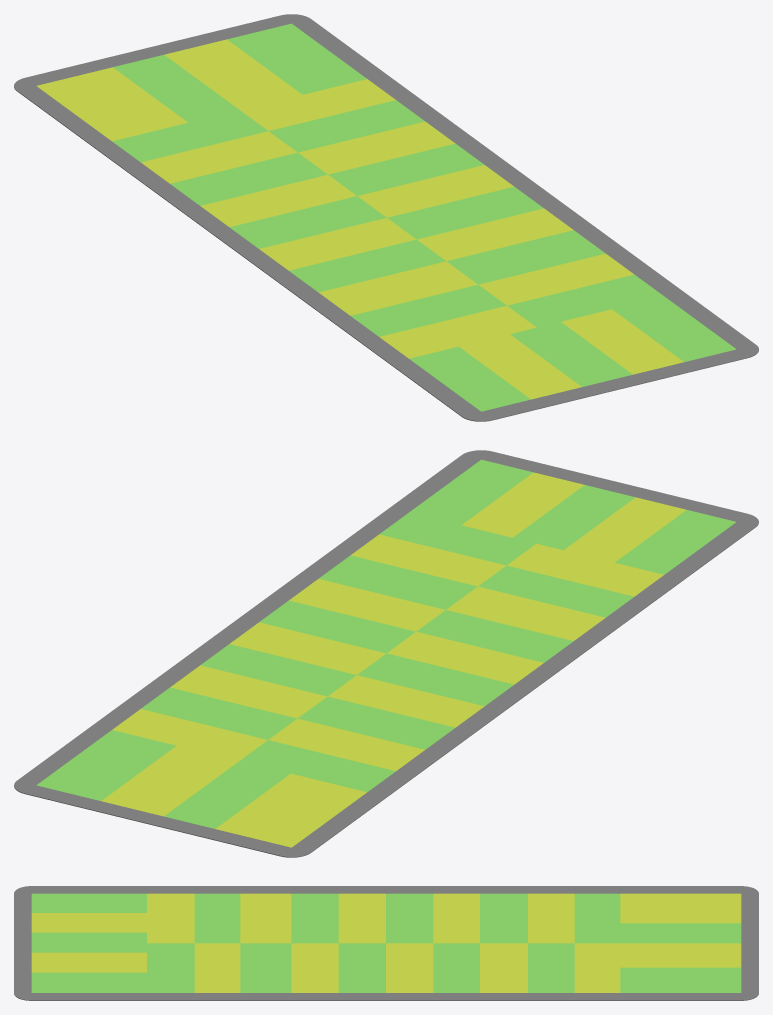
File: blockfinalcolor.glb
The picture shows the model from 3 angles, top to bottom: view 1: azimuth 30°, elevation 25°; view 2: azimuth 150°, elevation 25°; view 3: azimuth 270°, elevation 25°; orthographic projection. The views are drawn at different scales.
Visible parts, largest first — view 1: sidewalk, plot_8, plot_11, plot_10, plot_30, plot_19, plot_9, plot_5, plot_14, plot_28, plot_21, plot_1 (+18 smaller); view 2: sidewalk, plot_8, plot_11, plot_10, plot_30, plot_19, plot_9, plot_5, plot_14, plot_28, plot_21, plot_2 (+18 smaller); view 3: sidewalk, plot_8, plot_11, plot_10, plot_30, plot_19, plot_9, plot_1, plot_28, plot_5, plot_2, plot_3 (+18 smaller).
Boxes of the visible parts, x1,y1,x2,y2 form: sidewalk: [14, 14, 758, 421]; plot_8: [37, 67, 187, 141]; plot_11: [227, 23, 366, 94]; plot_10: [164, 39, 302, 109]; plot_30: [318, 261, 477, 315]; plot_19: [447, 230, 605, 284]; plot_9: [113, 55, 239, 122]; plot_5: [170, 152, 327, 205]; plot_14: [298, 121, 455, 174]; plot_28: [379, 306, 536, 358]; plot_21: [507, 274, 663, 327]; plot_1: [289, 239, 445, 292]; sidewalk: [14, 450, 758, 857]; plot_8: [215, 773, 366, 847]; plot_11: [36, 730, 176, 800]; plot_10: [101, 746, 238, 816]; plot_30: [446, 586, 605, 640]; plot_19: [318, 555, 477, 609]; plot_9: [164, 761, 290, 828]; plot_5: [298, 696, 454, 749]; plot_14: [170, 665, 327, 718]; plot_28: [507, 543, 663, 596]; plot_21: [379, 512, 535, 565]; plot_2: [387, 631, 543, 684]; sidewalk: [14, 886, 758, 1000]; plot_8: [620, 893, 741, 923]; plot_11: [620, 967, 741, 992]; plot_10: [620, 943, 741, 967]; plot_30: [240, 893, 291, 943]; plot_19: [240, 943, 291, 992]; plot_9: [620, 923, 741, 943]; plot_1: [291, 893, 338, 943]; plot_28: [147, 893, 194, 943]; plot_5: [480, 893, 527, 943]; plot_2: [338, 893, 385, 943]; plot_3: [386, 893, 433, 943].
Bounding box in the file's own units: 69.69 × 0.1524 × 192.
